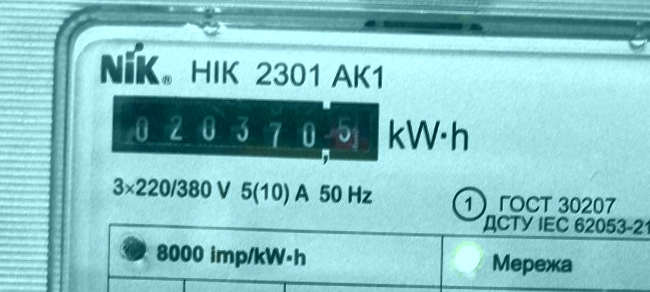0: (298, 120, 317, 150), (132, 114, 149, 143), (200, 113, 215, 142)
2: (166, 113, 184, 144)
3: (233, 113, 249, 144)
5: (335, 114, 353, 145)
7: (265, 120, 281, 151)
screen: (103, 89, 387, 171)
